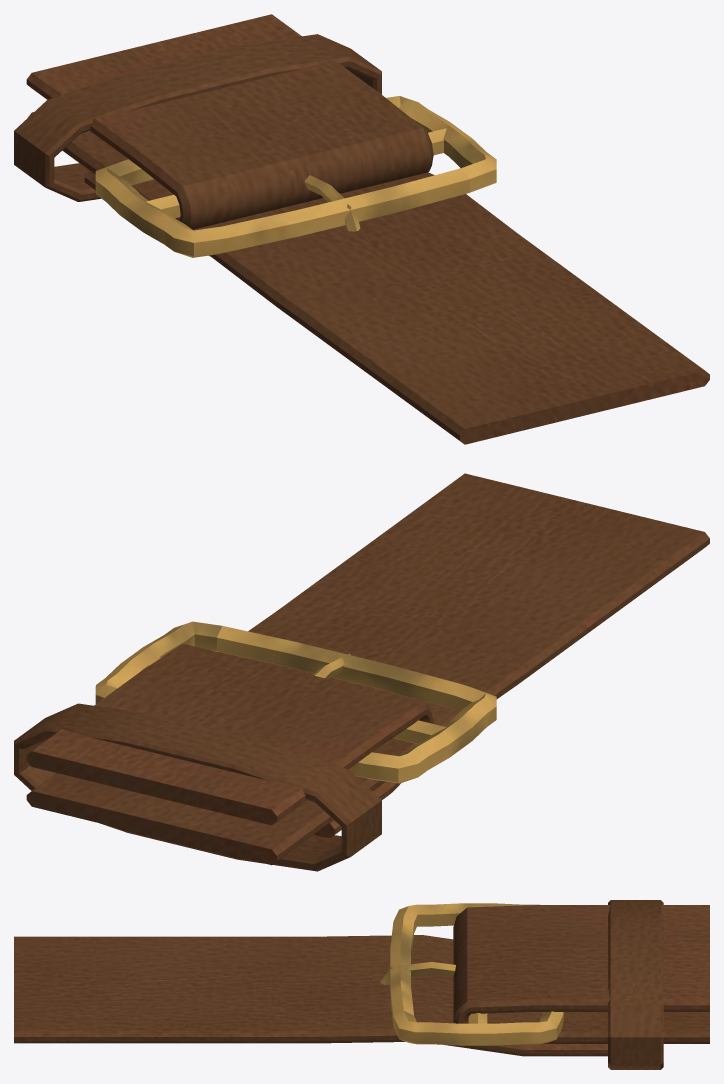
Rendered from pistol_sling_buckle.glb.
3 views of the same model, one above another, from view 1: azimuth 30°, elevation 25°; view 2: azimuth 150°, elevation 25°; view 3: azimuth 270°, elevation 25° (orthographic). The views are drawn at different scales.
Visible parts, largest first — view 1: SlingBuckle; view 2: SlingBuckle; view 3: SlingBuckle.
Boxes of the visible parts, <box> form: SlingBuckle: <box>14,14,709,444</box>; SlingBuckle: <box>14,473,709,871</box>; SlingBuckle: <box>14,900,709,1069</box>.
Bounding box in the file's own units: 0.0674 × 0.0181 × 0.15.
2 materials, 2 textured.
